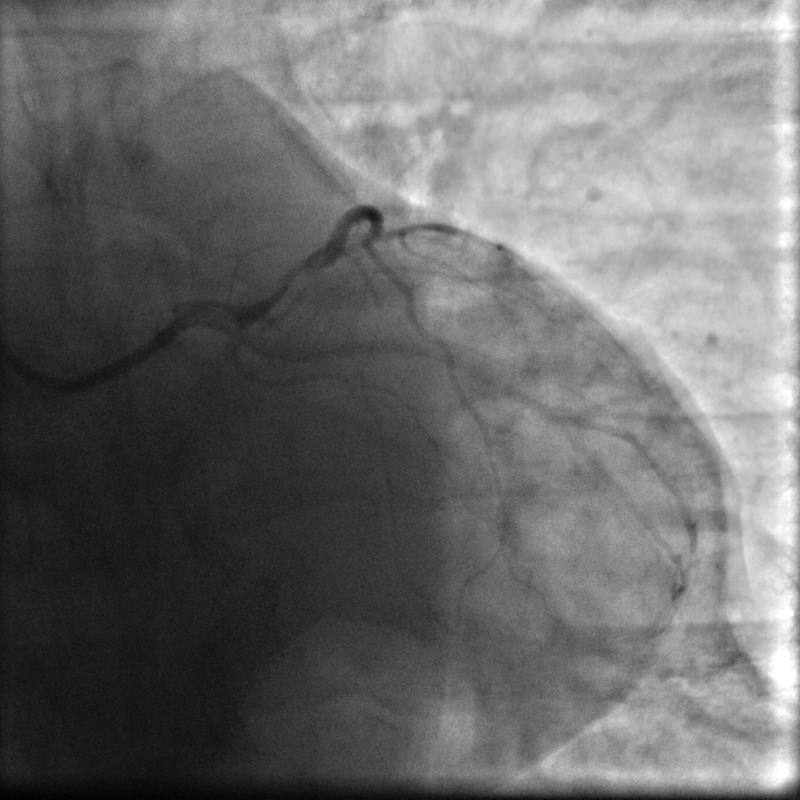Stenosis: (250, 255, 320, 300)
